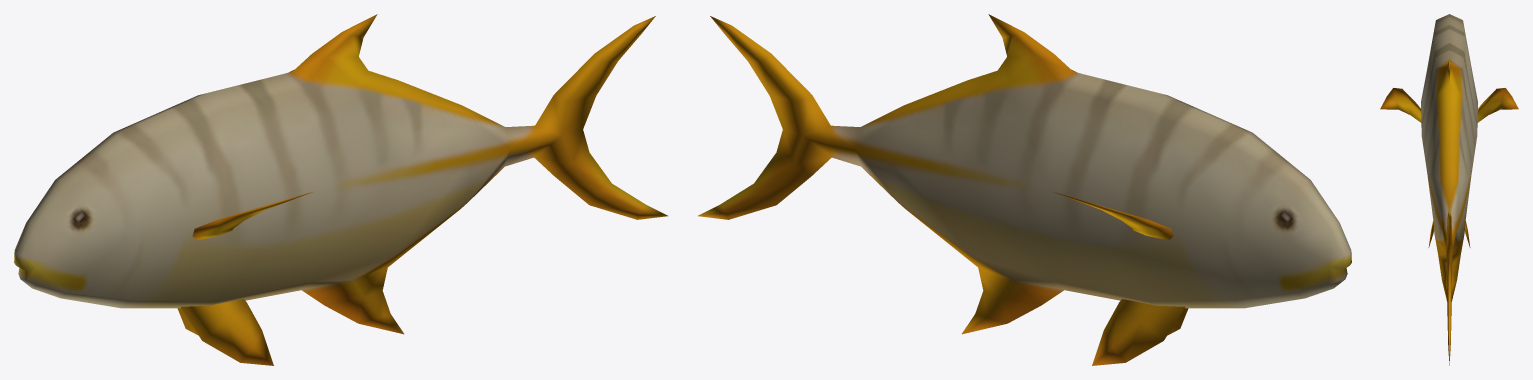
Rendered from f05_wuchishen.FBX.
The picture shows the model from 3 angles, left to right: view 1: azimuth 30°, elevation 25°; view 2: azimuth 150°, elevation 25°; view 3: azimuth 270°, elevation 25°; orthographic projection. The views are drawn at different scales.
Visible parts, largest first — view 1: f05_wuchishen; view 2: f05_wuchishen; view 3: f05_wuchishen.
Part boxes in pixels (x1,y1,x2,y2): f05_wuchishen: (14,14,667,365); f05_wuchishen: (698,14,1351,365); f05_wuchishen: (1380,14,1518,365).
Bounding box in the file's own units: 81.94 × 39.22 × 20.81.
Materials: 1 (1 with a texture image).
